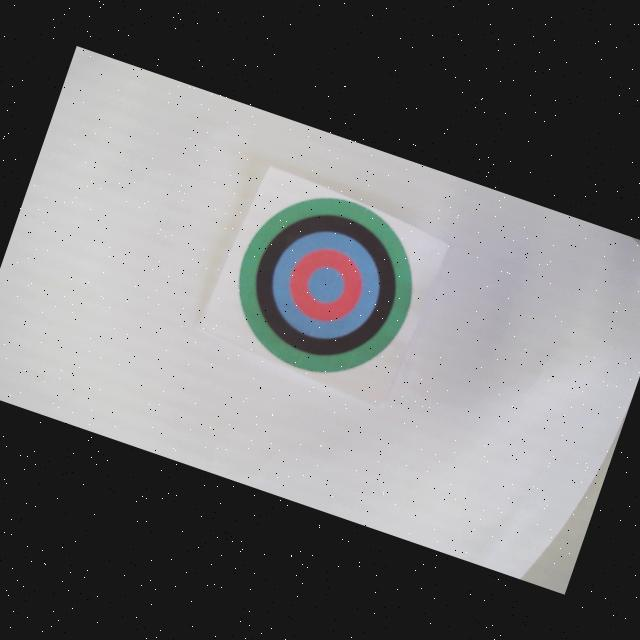COGNITIVE: (212, 172, 438, 398)
